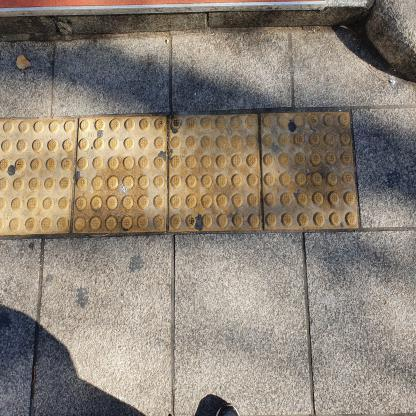podotacti: (0, 90, 366, 245)
